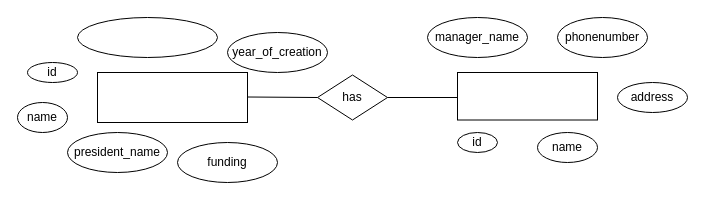
Image size: 705x200. Some labels were removed from this diagram. The centre of each missing label's shape, as x and y in pixels:
"boardmembers_number" goes at (x=147, y=37).
"Club" goes at (x=527, y=96).
"Federation" goes at (x=172, y=97).
